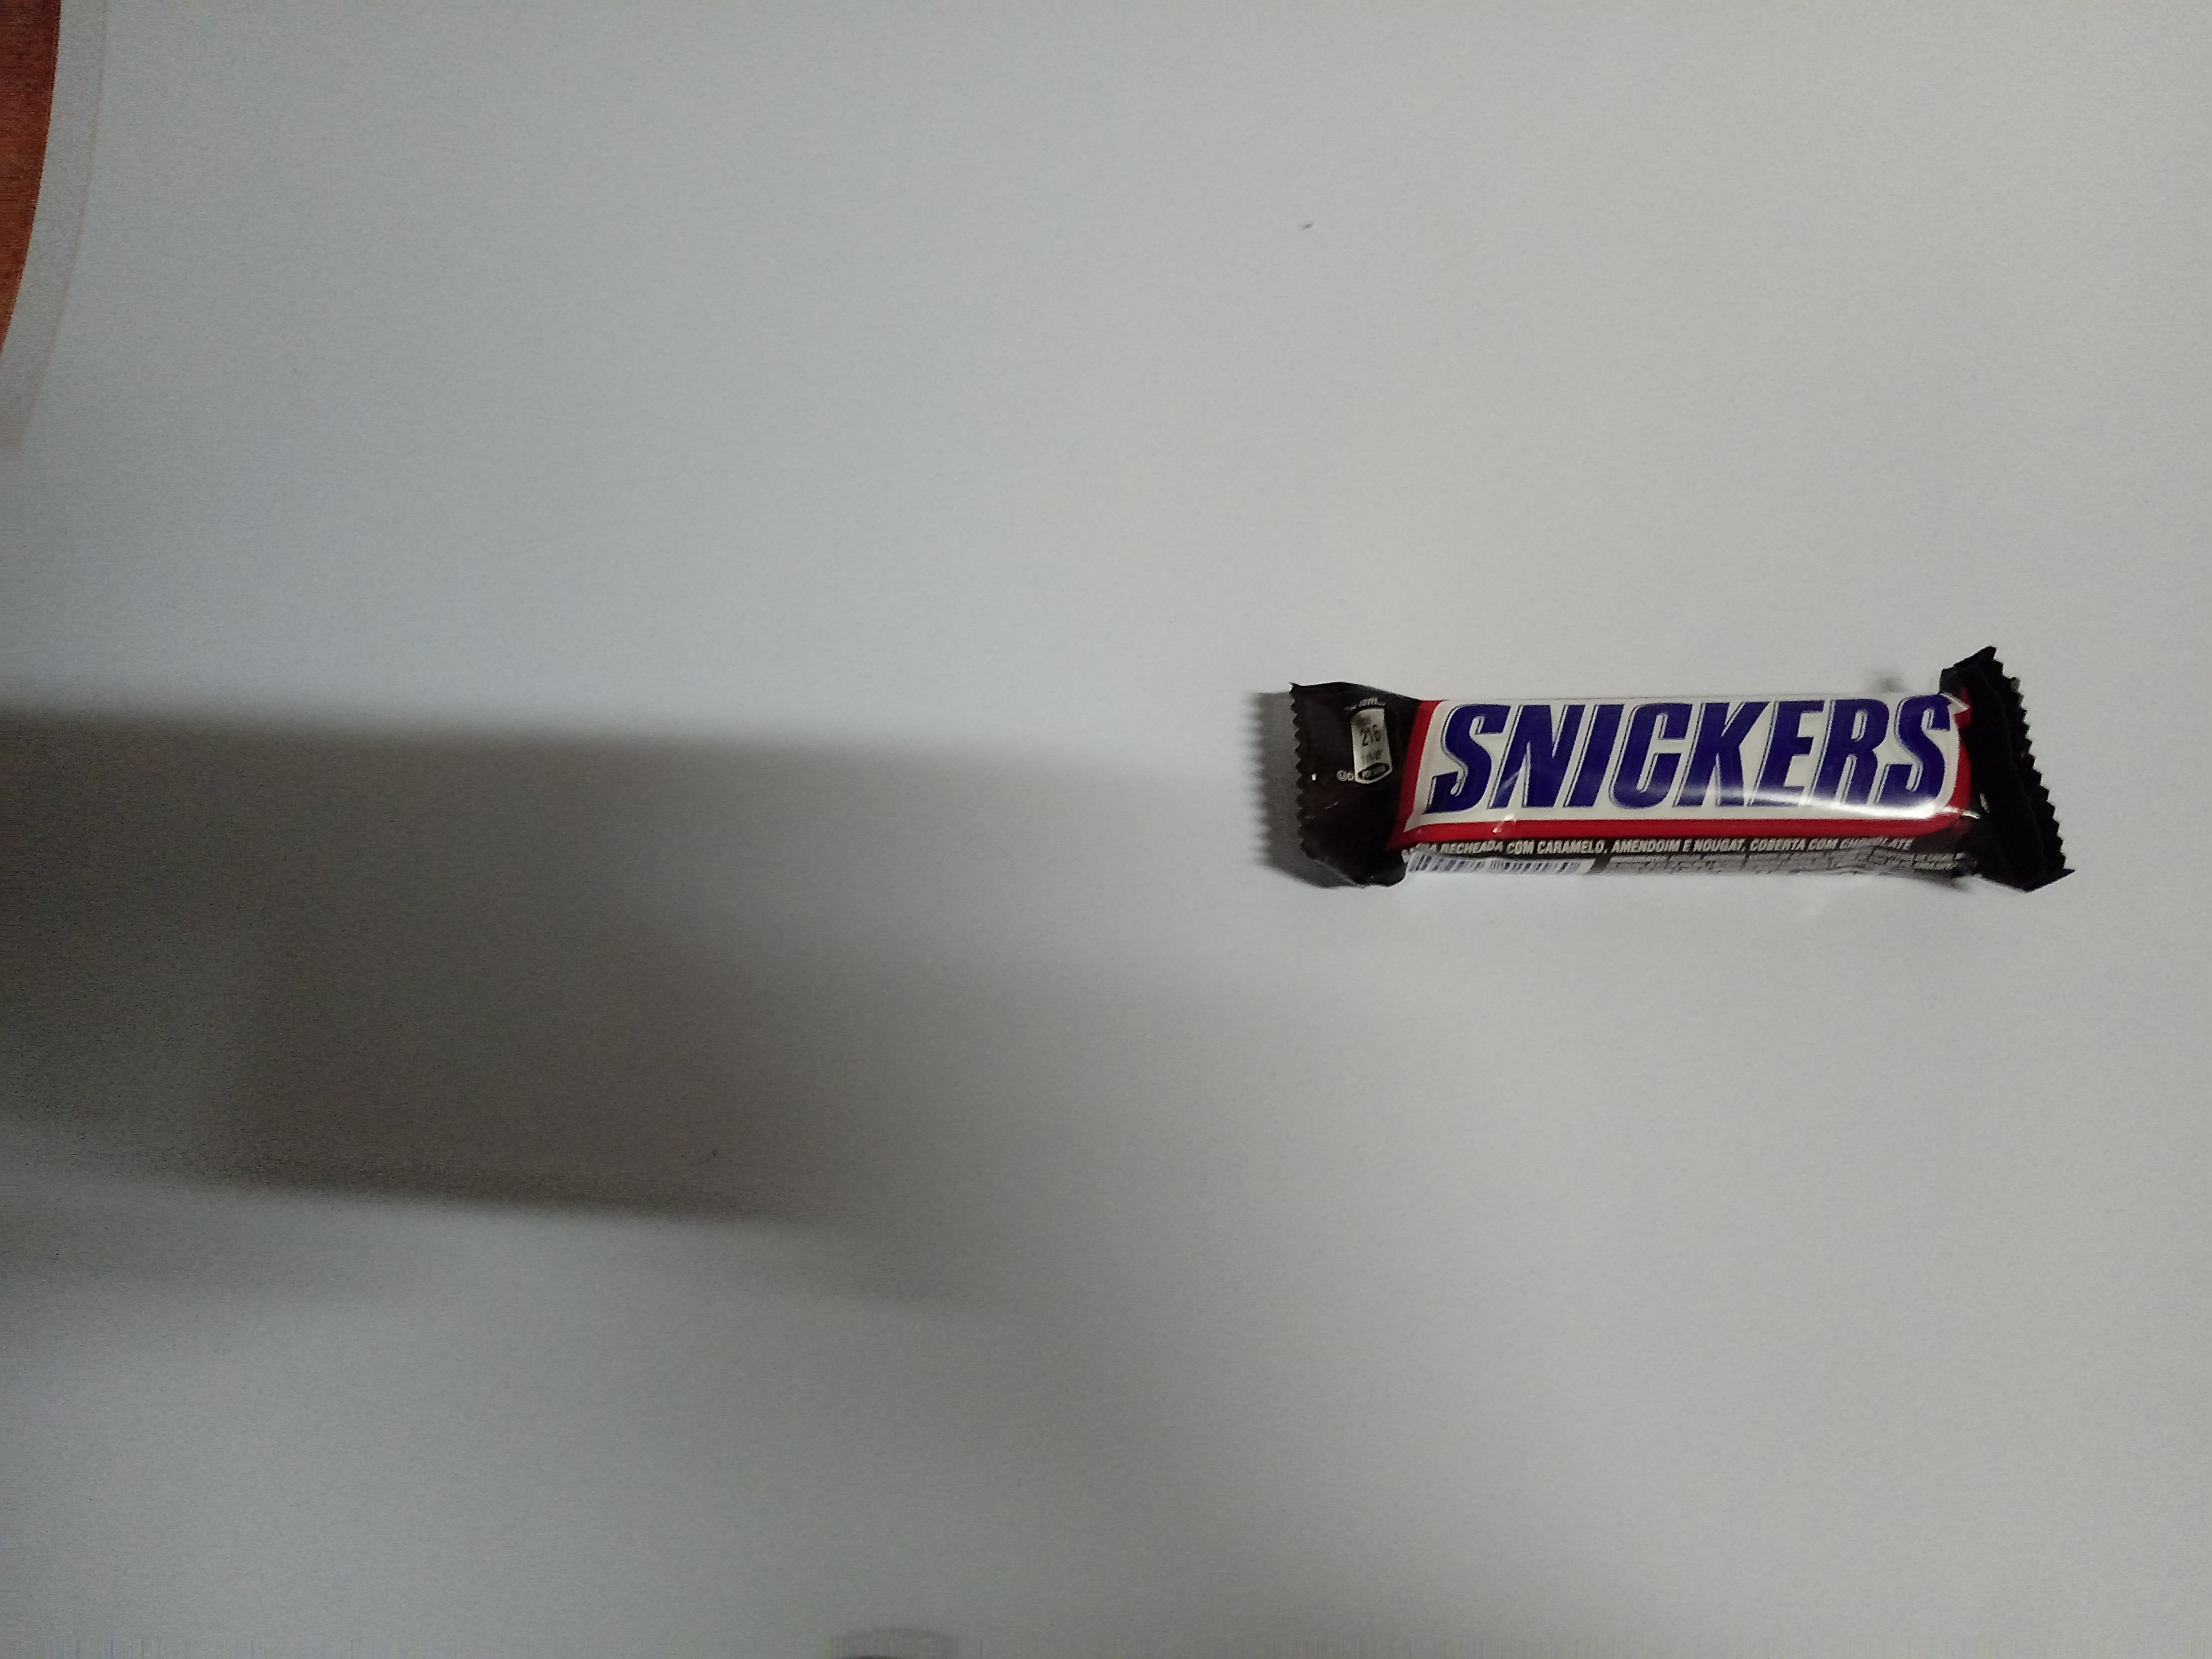snickers: (1261, 631, 2088, 927)
